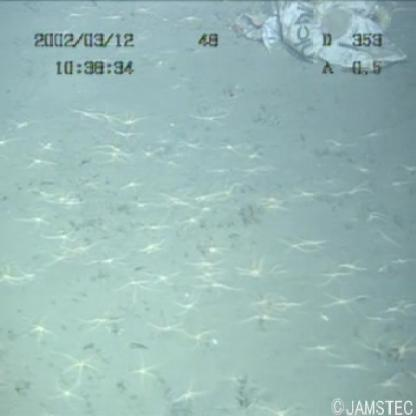Rác: (237, 1, 408, 80)
